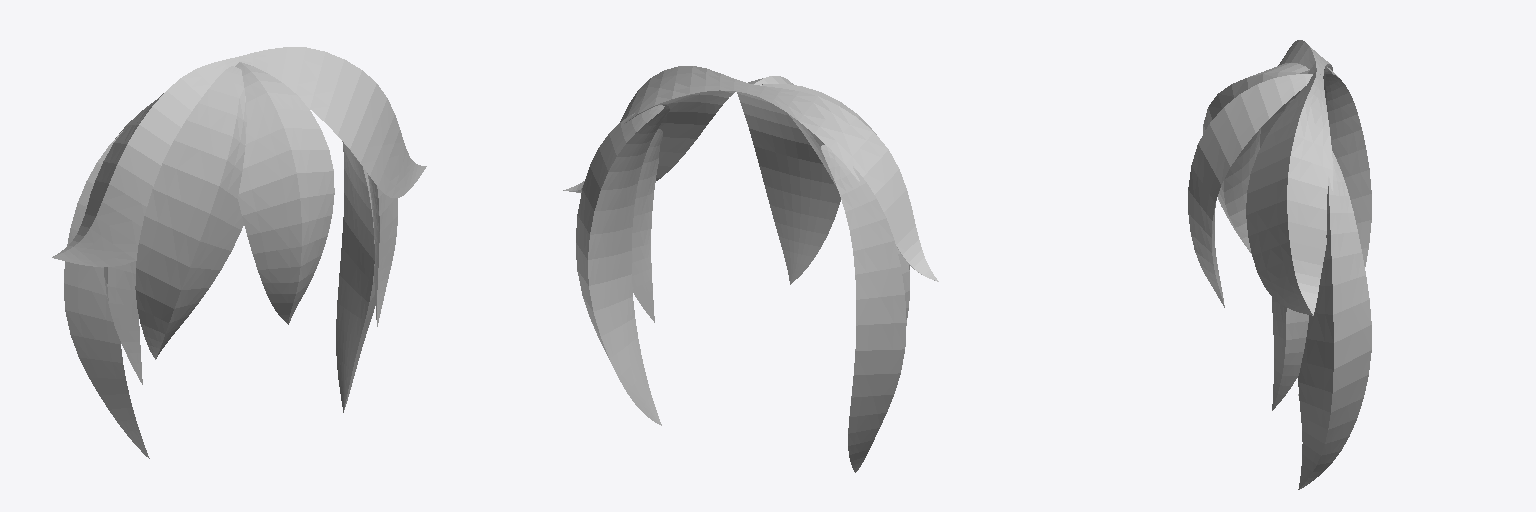
The model's file is hair1.obj.
3 renders of one model, left to right at view 1: azimuth 30°, elevation 25°; view 2: azimuth 150°, elevation 25°; view 3: azimuth 270°, elevation 25°, orthographic.
Parts seen in each view (by area): view 1: Bangs_Sim_1_mesh.001_Bangs_Sim_1.001, Bangs_Sim_1_mesh.004_Bangs_Sim_1.001, Bangs_Sim_1_mesh.005_Bangs_Sim_1.001, Bangs_Sim_1_mesh.002_Bangs_Sim_1.001, Bangs_Sim_1_mesh.003_Bangs_Sim_1.001; view 2: Bangs_Sim_1_mesh.002_Bangs_Sim_1.001, Bangs_Sim_1_mesh.001_Bangs_Sim_1.001, Bangs_Sim_1_mesh.005_Bangs_Sim_1.001, Bangs_Sim_1_mesh.003_Bangs_Sim_1.001, Bangs_Sim_1_mesh.004_Bangs_Sim_1.001; view 3: Bangs_Sim_1_mesh.002_Bangs_Sim_1.001, Bangs_Sim_1_mesh.001_Bangs_Sim_1.001, Bangs_Sim_1_mesh.005_Bangs_Sim_1.001, Bangs_Sim_1_mesh.004_Bangs_Sim_1.001, Bangs_Sim_1_mesh.003_Bangs_Sim_1.001.
Boxes of the visible parts, box(x1,y1,x2,y2) form: Bangs_Sim_1_mesh.001_Bangs_Sim_1.001: box(52, 47, 426, 266); Bangs_Sim_1_mesh.004_Bangs_Sim_1.001: box(135, 66, 246, 359); Bangs_Sim_1_mesh.005_Bangs_Sim_1.001: box(235, 62, 334, 324); Bangs_Sim_1_mesh.002_Bangs_Sim_1.001: box(64, 131, 375, 458); Bangs_Sim_1_mesh.003_Bangs_Sim_1.001: box(104, 173, 397, 384); Bangs_Sim_1_mesh.002_Bangs_Sim_1.001: box(576, 105, 906, 472); Bangs_Sim_1_mesh.001_Bangs_Sim_1.001: box(563, 66, 938, 281); Bangs_Sim_1_mesh.005_Bangs_Sim_1.001: box(737, 76, 840, 284); Bangs_Sim_1_mesh.003_Bangs_Sim_1.001: box(632, 129, 909, 322); Bangs_Sim_1_mesh.004_Bangs_Sim_1.001: box(762, 84, 909, 269); Bangs_Sim_1_mesh.002_Bangs_Sim_1.001: box(1298, 67, 1371, 489); Bangs_Sim_1_mesh.001_Bangs_Sim_1.001: box(1246, 40, 1332, 315); Bangs_Sim_1_mesh.005_Bangs_Sim_1.001: box(1188, 74, 1320, 307); Bangs_Sim_1_mesh.004_Bangs_Sim_1.001: box(1203, 63, 1309, 253); Bangs_Sim_1_mesh.003_Bangs_Sim_1.001: box(1272, 99, 1308, 410).
Bounding box in the file's own units: 2.61 × 2.48 × 1.1.